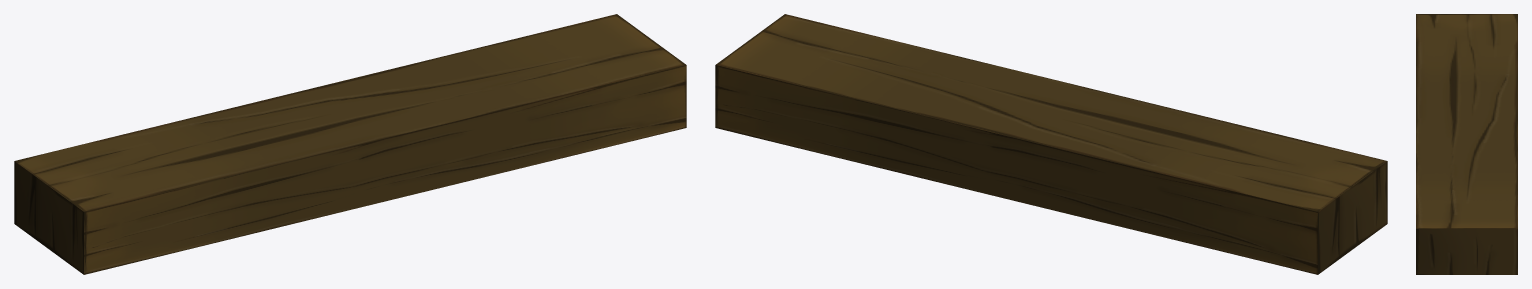
File: Dg_01_WoodPillar_001.FBX
3 views of the same model, side by side, from view 1: azimuth 30°, elevation 25°; view 2: azimuth 150°, elevation 25°; view 3: azimuth 270°, elevation 25° (orthographic). The views are drawn at different scales.
Visible parts, largest first — view 1: Dg_01_WoodPillar_001; view 2: Dg_01_WoodPillar_001; view 3: Dg_01_WoodPillar_001.
Boxes of the visible parts, box(x1,y1,x2,y2) form: Dg_01_WoodPillar_001: box(14, 14, 686, 274); Dg_01_WoodPillar_001: box(715, 14, 1387, 274); Dg_01_WoodPillar_001: box(1416, 14, 1517, 274).
Size of the model in its own units: 5 by 0.5 by 1.
